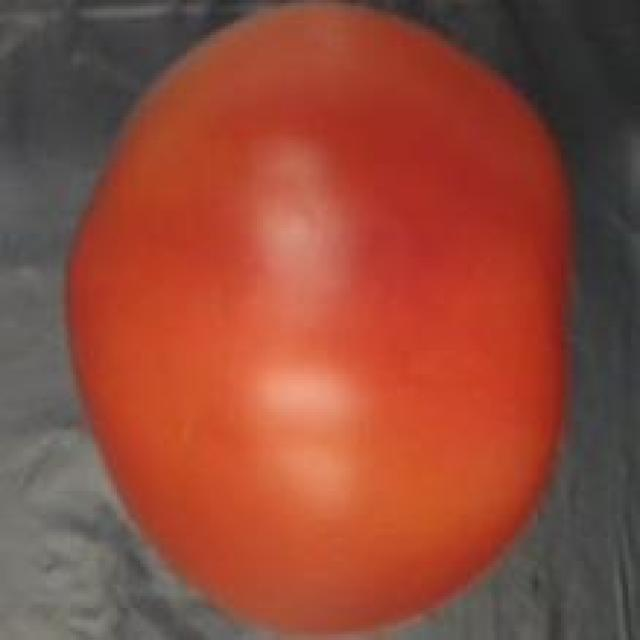ripe tomato: (56, 0, 578, 640)
